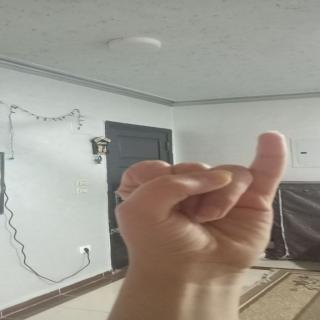MEEM: (94, 130, 294, 257)
